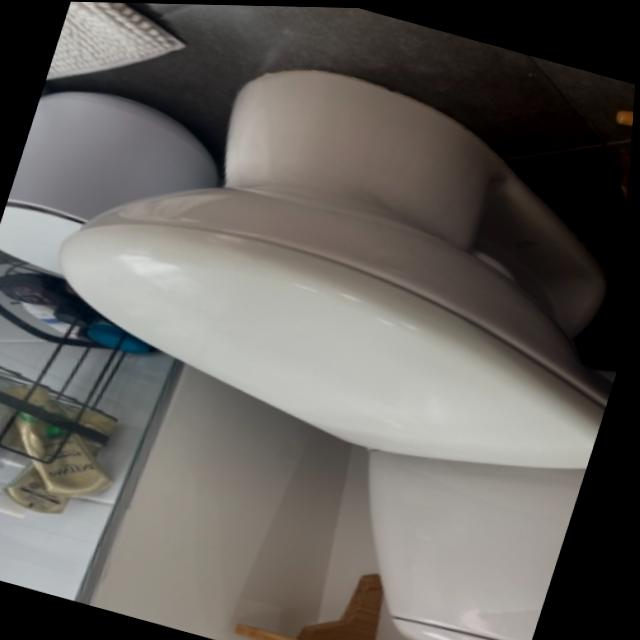toilet: (0, 13, 639, 640)
